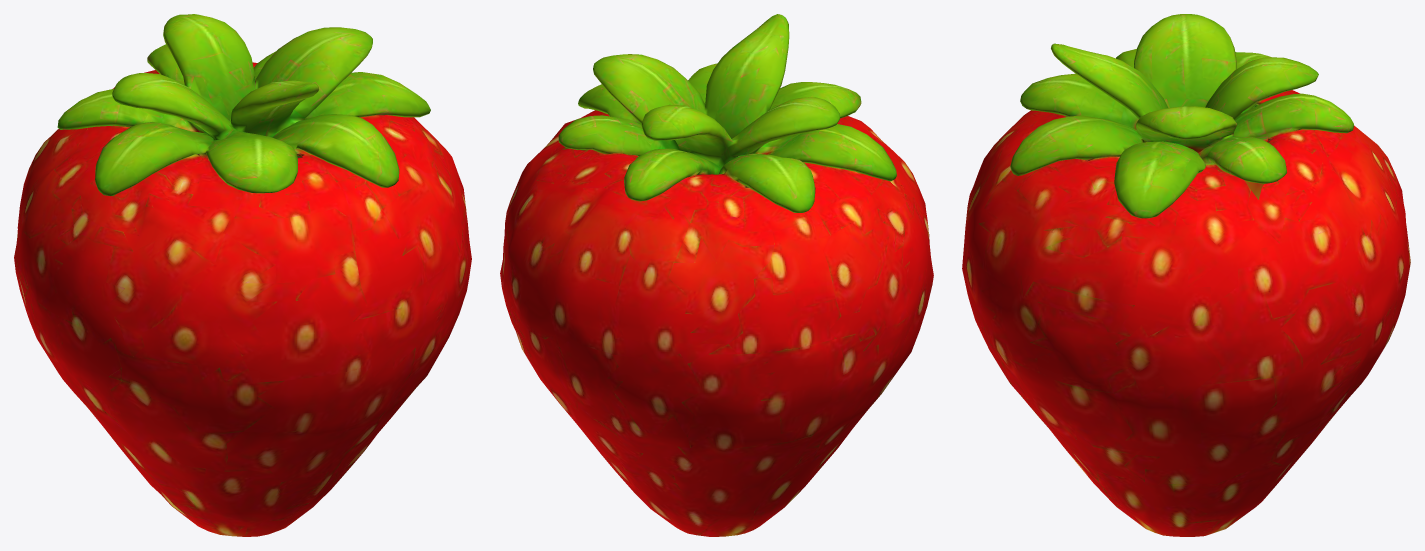
3 renders of one model, left to right at view 1: azimuth 30°, elevation 25°; view 2: azimuth 150°, elevation 25°; view 3: azimuth 270°, elevation 25°, orthographic. The views are drawn at different scales.
Bounding box in the file's own units: 1.6 × 1.91 × 1.6.
1 material, 1 textured.
